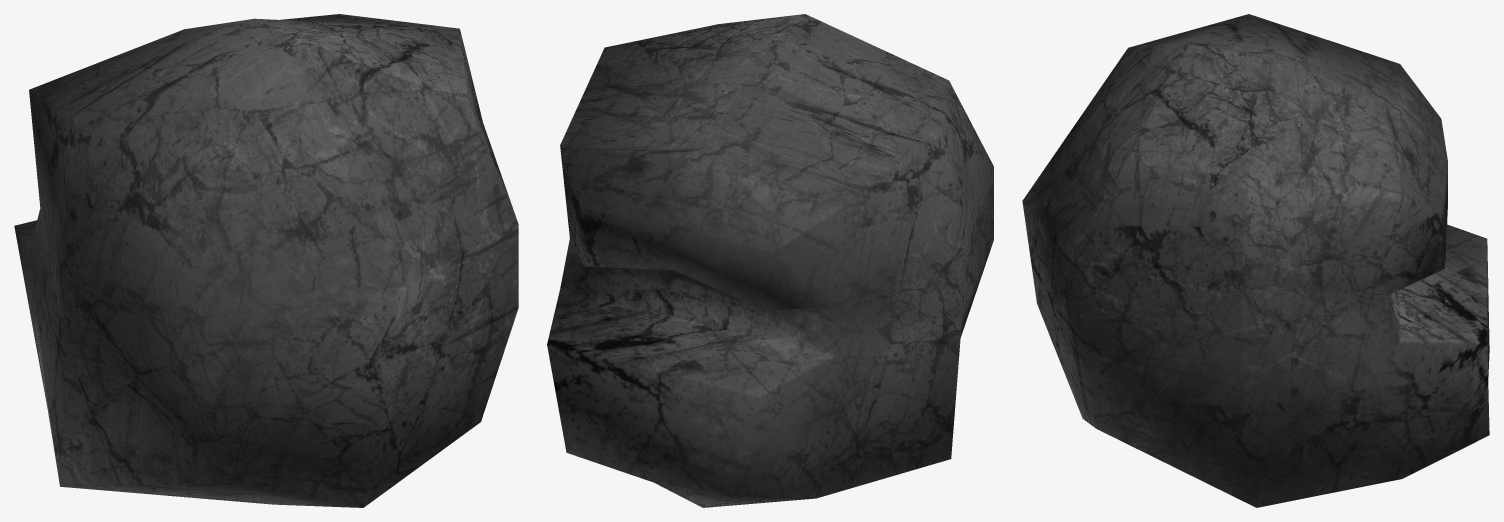
Rendered from GolemHead.fbx.
3 renders of one model, left to right at view 1: azimuth 30°, elevation 25°; view 2: azimuth 150°, elevation 25°; view 3: azimuth 270°, elevation 25°, orthographic. The views are drawn at different scales.
Parts seen in each view (by area): view 1: Cube; view 2: Cube; view 3: Cube.
Part boxes in pixels (x1,y1,x2,y2): Cube: [14, 14, 518, 507]; Cube: [547, 14, 993, 507]; Cube: [1022, 14, 1489, 507].
Size of the model in its own units: 2.7 by 2.98 by 2.94.
